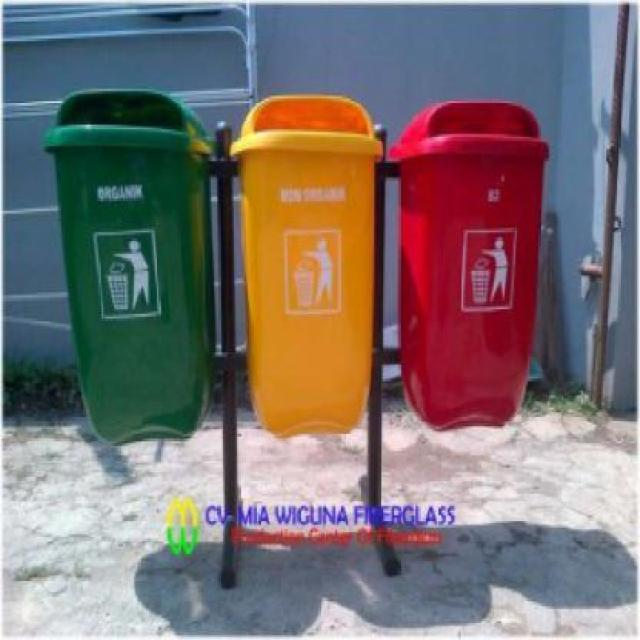garbage container: (35, 82, 222, 463), (386, 84, 560, 453), (223, 83, 392, 446)
